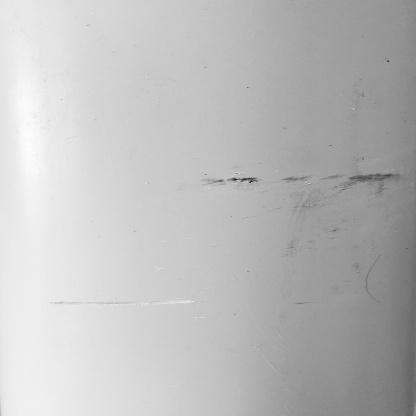sunshang: (38, 290, 212, 312)
